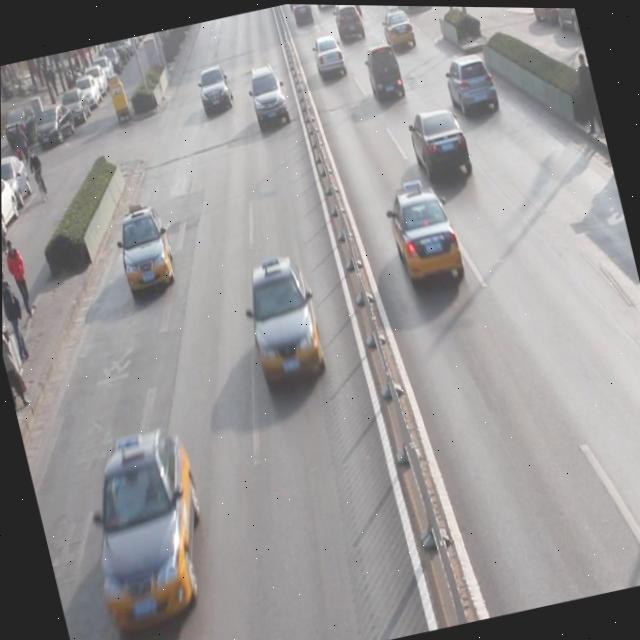car: (68, 426, 227, 640), (235, 251, 332, 387), (380, 173, 468, 293), (110, 202, 181, 303), (404, 99, 475, 185), (441, 47, 504, 124), (243, 59, 292, 130), (193, 63, 236, 118), (309, 32, 349, 82), (379, 4, 418, 50), (330, 4, 366, 42)
truck: (360, 38, 409, 103)
